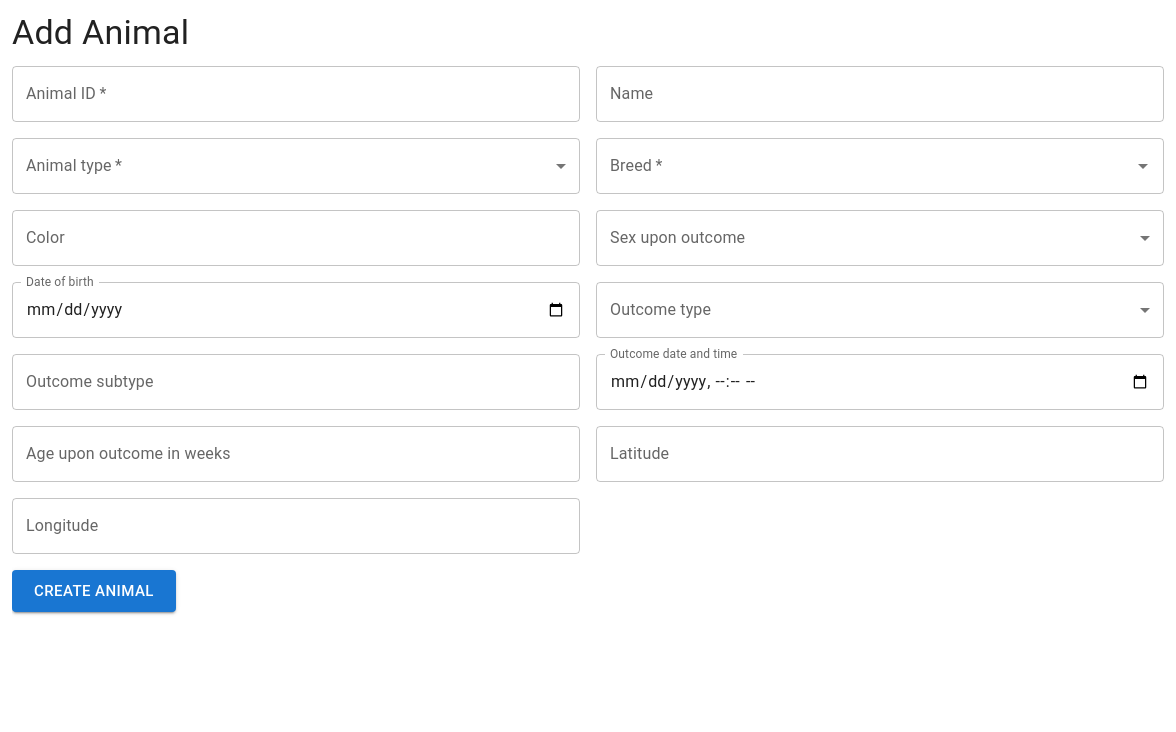
it: AddAnimalPage › loads the lookup values into the form
Click the dropdown named "animal type" next to "Animal type" at (296, 166), box [12, 138, 580, 194]
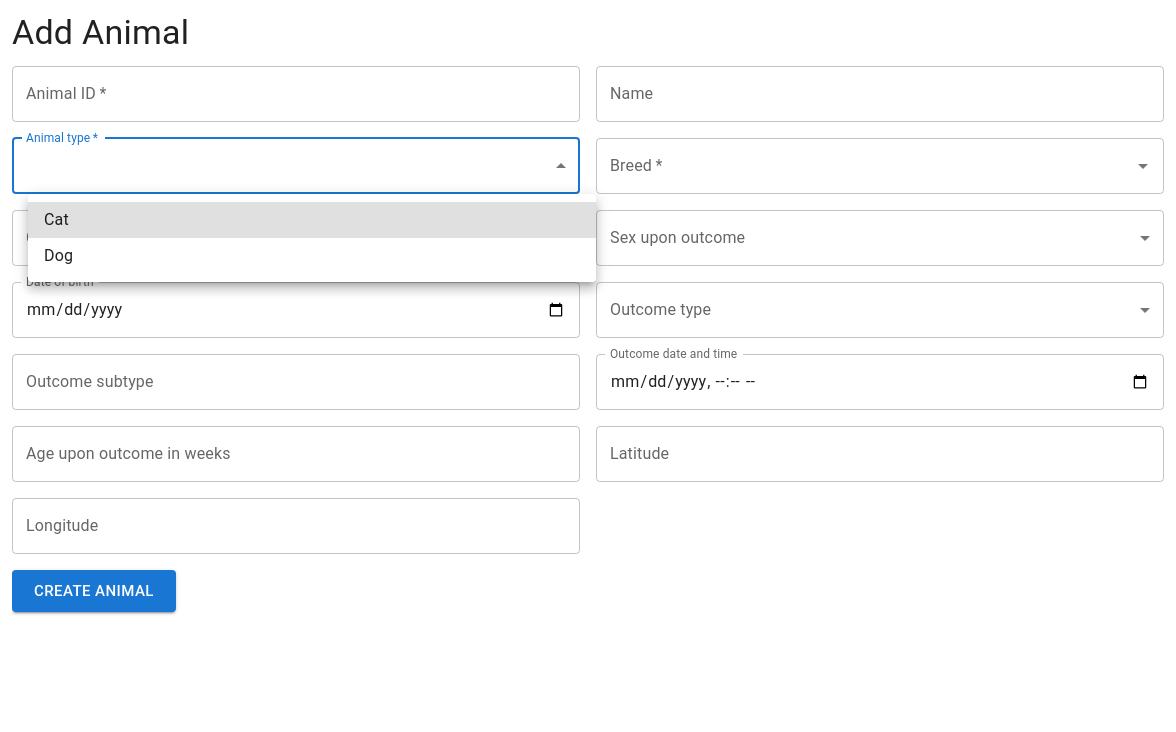
Now the option "Cat" is shown, box [28, 202, 596, 238]
Now the option "Dog" is shown, box [44, 246, 73, 265]
